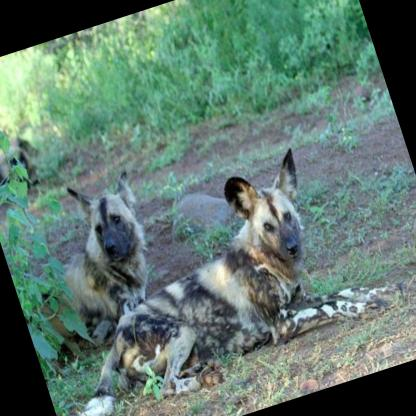African_hunting_dog: (19, 131, 394, 416), (0, 167, 168, 344)
